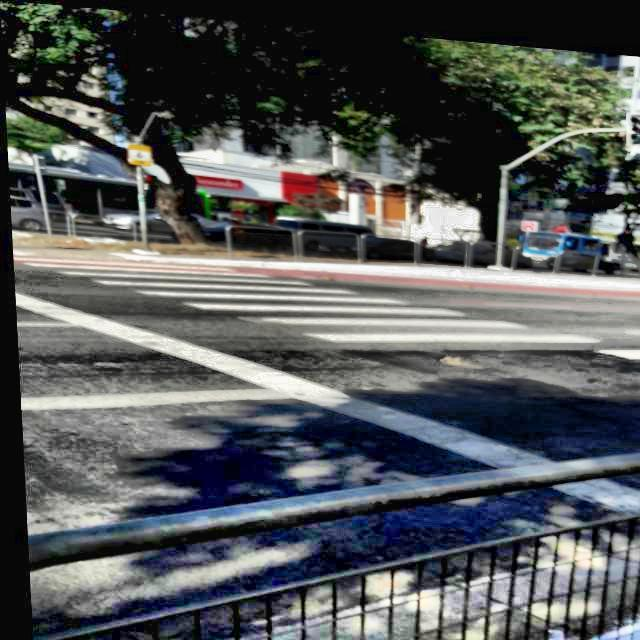faixa de pedestre: (18, 252, 636, 348)
